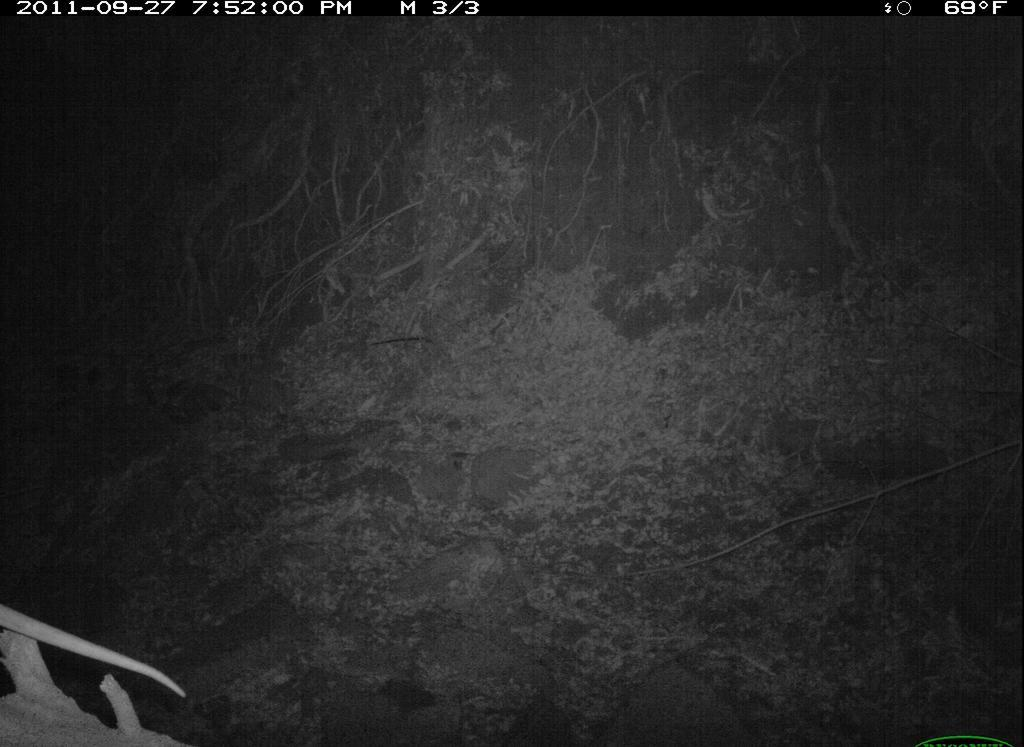opossum: (3, 587, 201, 726)
